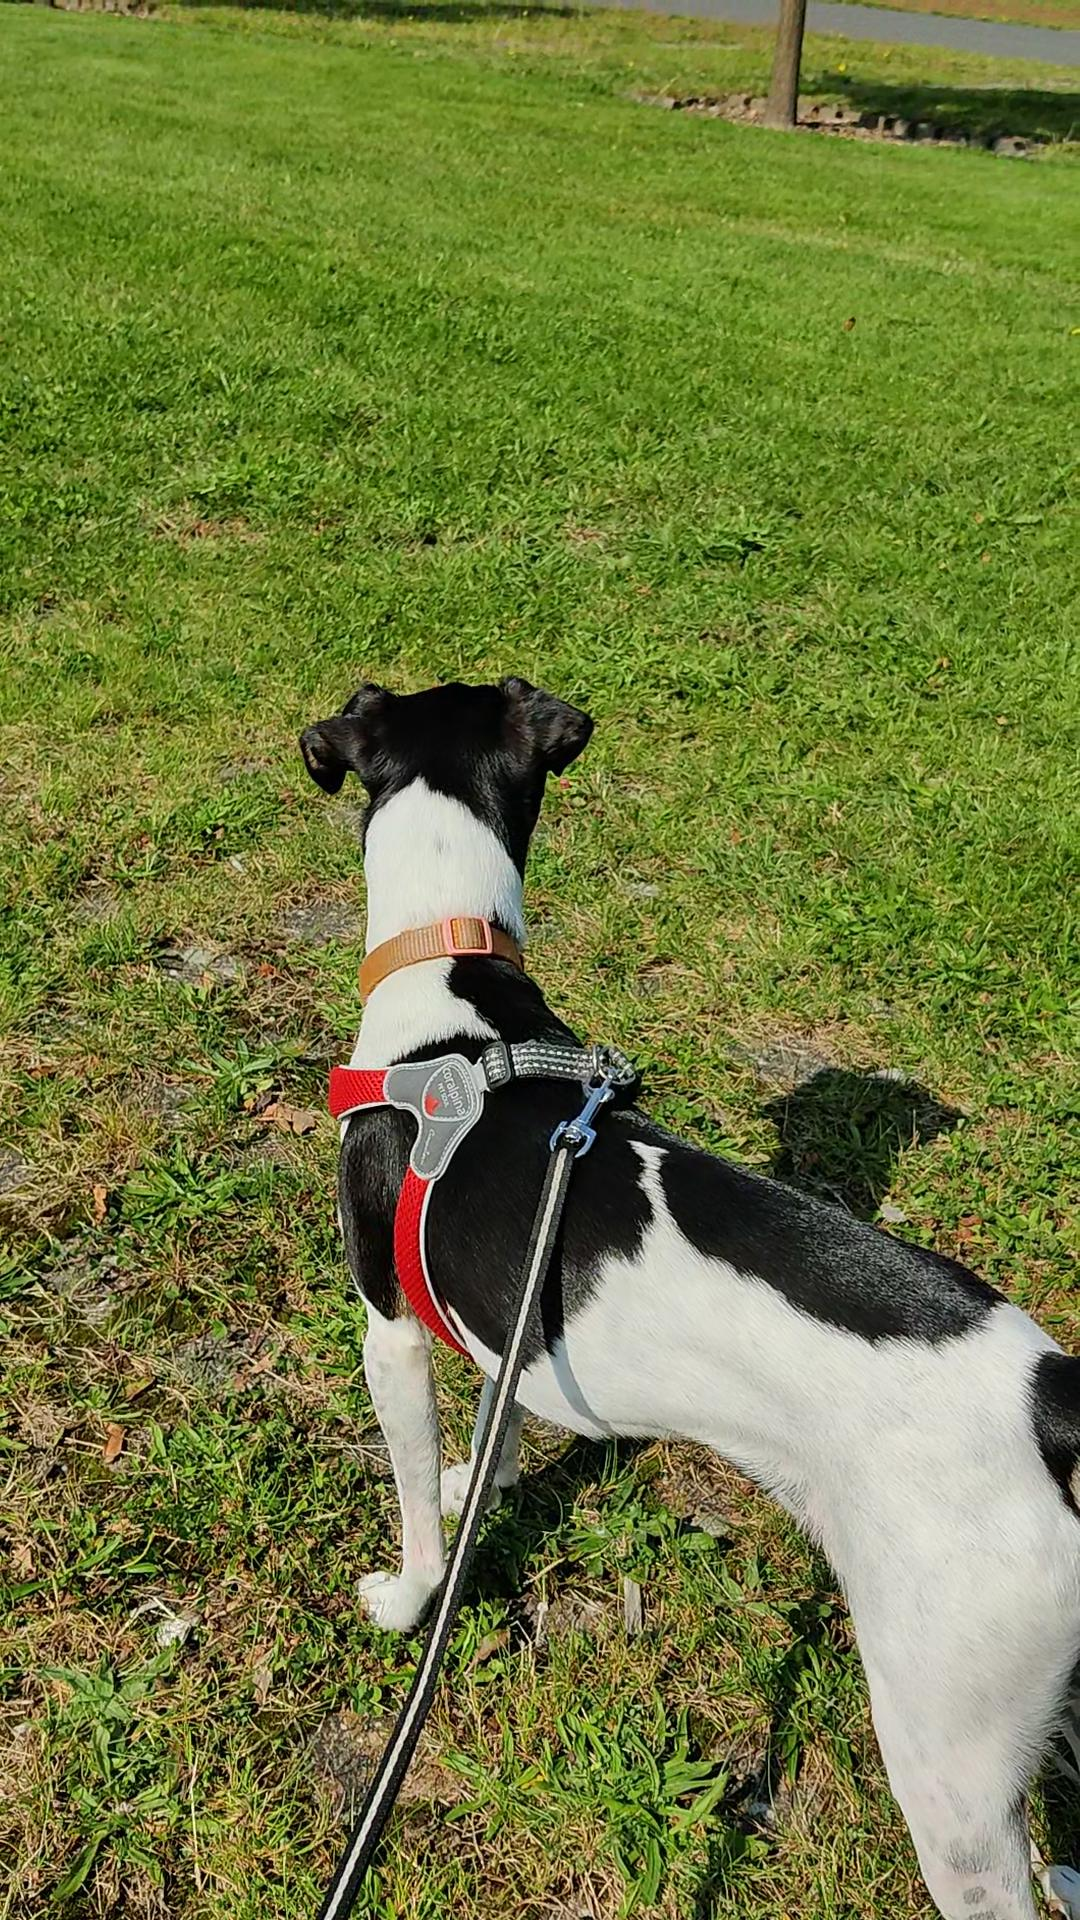Dog: (290, 659, 1079, 1919)
